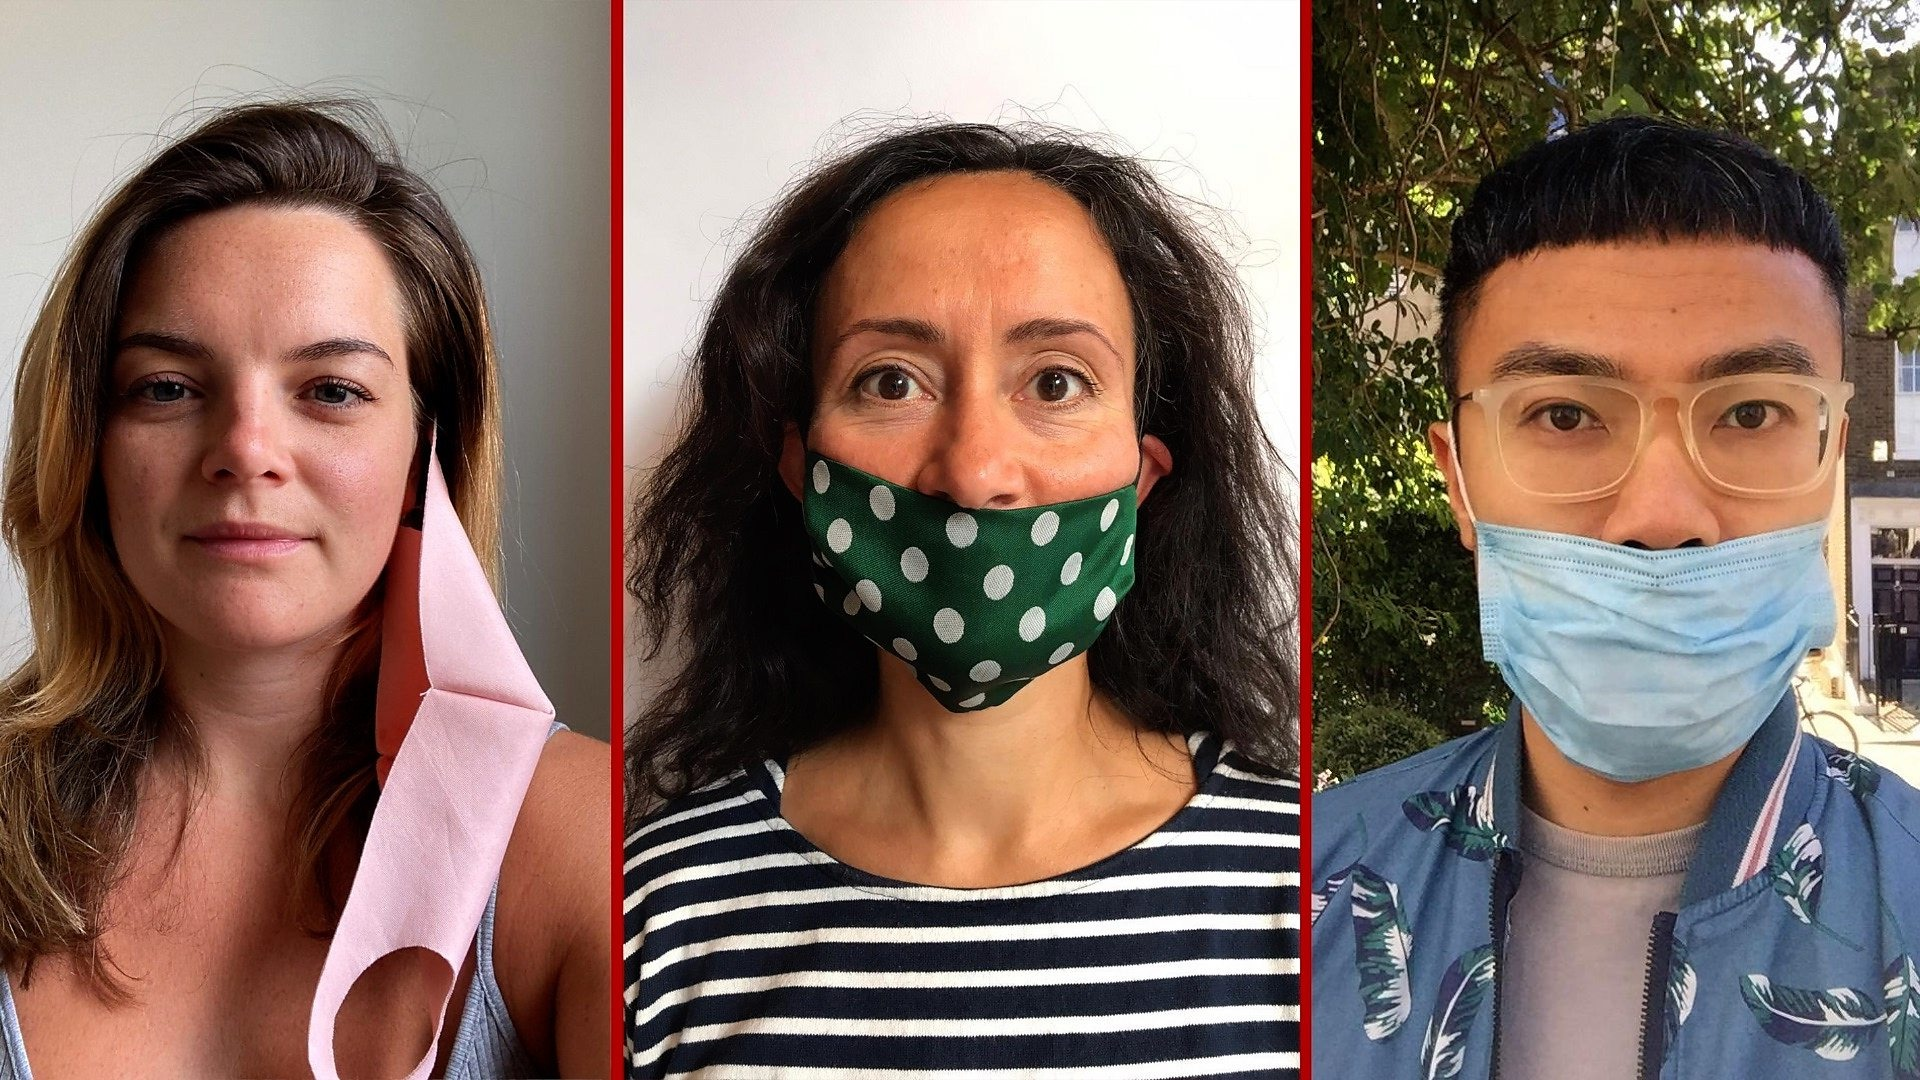mask_weared_incorrect: (1472, 240, 1837, 772), (821, 212, 1146, 691)
without_mask: (107, 184, 407, 642)
